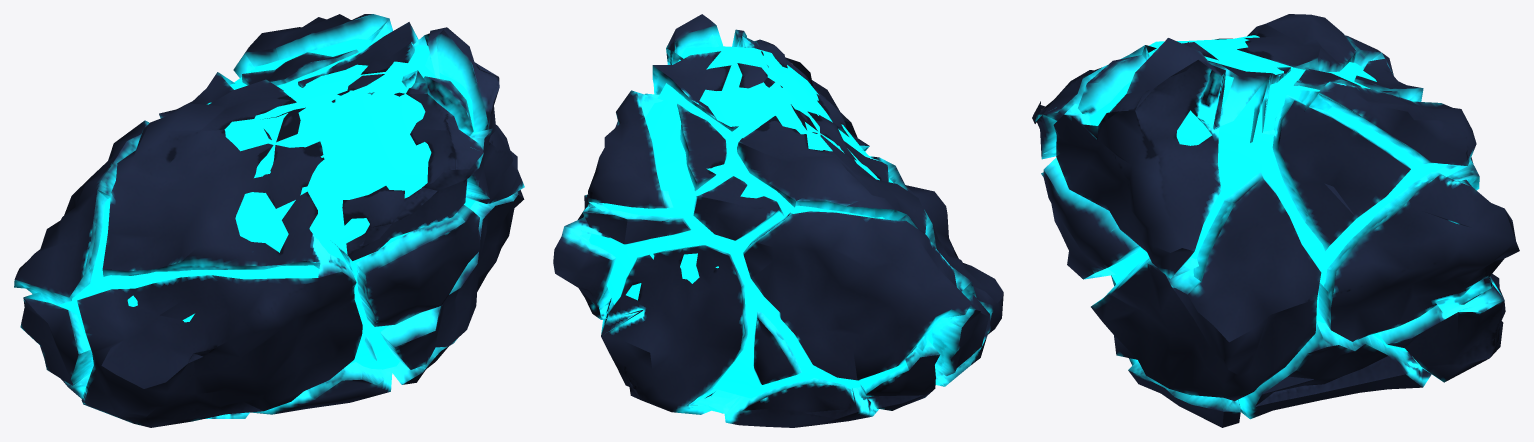
Rendered from mineral_vibranium.fbx.
The picture shows the model from 3 angles, left to right: view 1: azimuth 30°, elevation 25°; view 2: azimuth 150°, elevation 25°; view 3: azimuth 270°, elevation 25°; orthographic projection. The views are drawn at different scales.
Parts seen in each view (by area): view 1: mineral_vibranium, mineral_vibranium_neon; view 2: mineral_vibranium, mineral_vibranium_neon; view 3: mineral_vibranium, mineral_vibranium_neon.
Part boxes in pixels (left/top/right/bottom): mineral_vibranium: left=14, top=14, right=524, bottom=427; mineral_vibranium_neon: left=58, top=38, right=475, bottom=369; mineral_vibranium: left=553, top=14, right=1003, bottom=427; mineral_vibranium_neon: left=589, top=46, right=933, bottom=398; mineral_vibranium: left=1032, top=14, right=1519, bottom=427; mineral_vibranium_neon: left=1089, top=35, right=1446, bottom=351.
Bounding box in the file's own units: 2.29 × 1.57 × 1.87.
2 materials, 2 textured.
